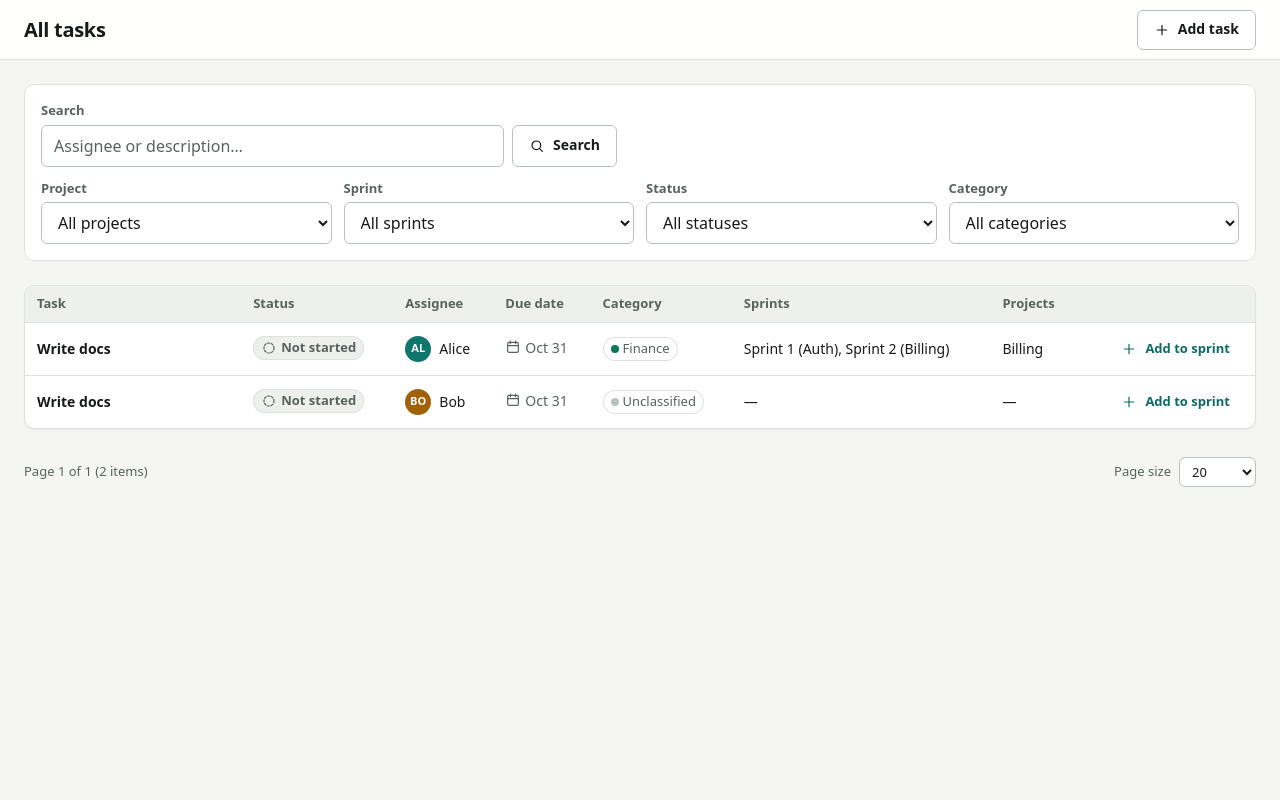
Test: TaskManager › shows category, labelled sprint and project names in the table and details
Check: the column heading "Category" is shown, box [590, 286, 732, 322]
Check: the column heading "Sprints" is shown, box [732, 286, 990, 322]
Click the button "Write docs" in the row of "Alice": (133, 348) [37, 330, 229, 366]
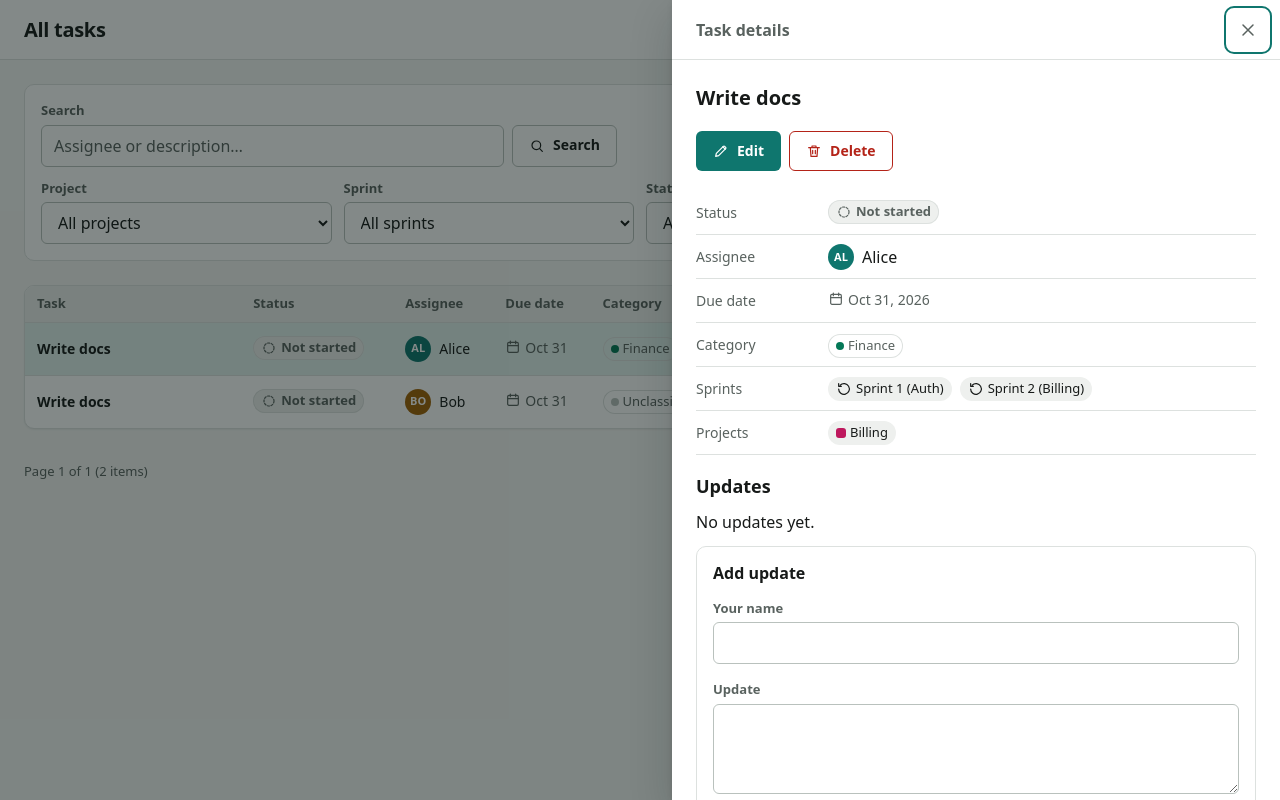
Check: the dialog "Task details" shows "Finance", box [848, 336, 895, 354]
